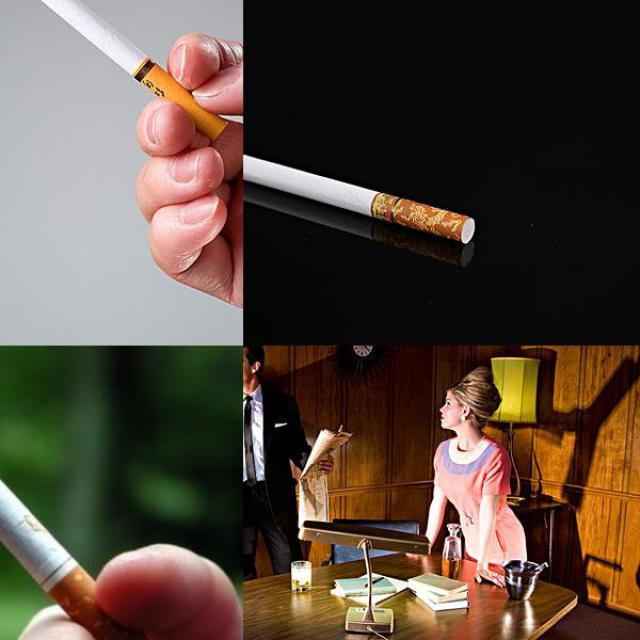smoking: (0, 391, 169, 639), (8, 0, 237, 149), (243, 152, 477, 245)
